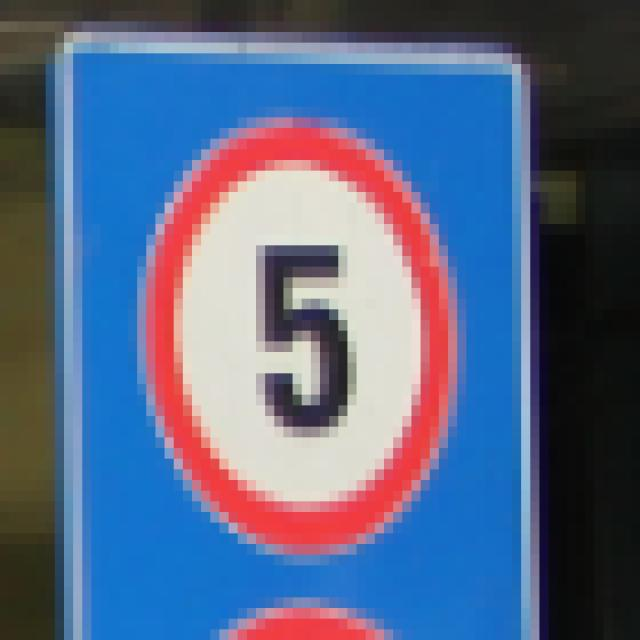speed limit 10: (136, 115, 451, 558)
